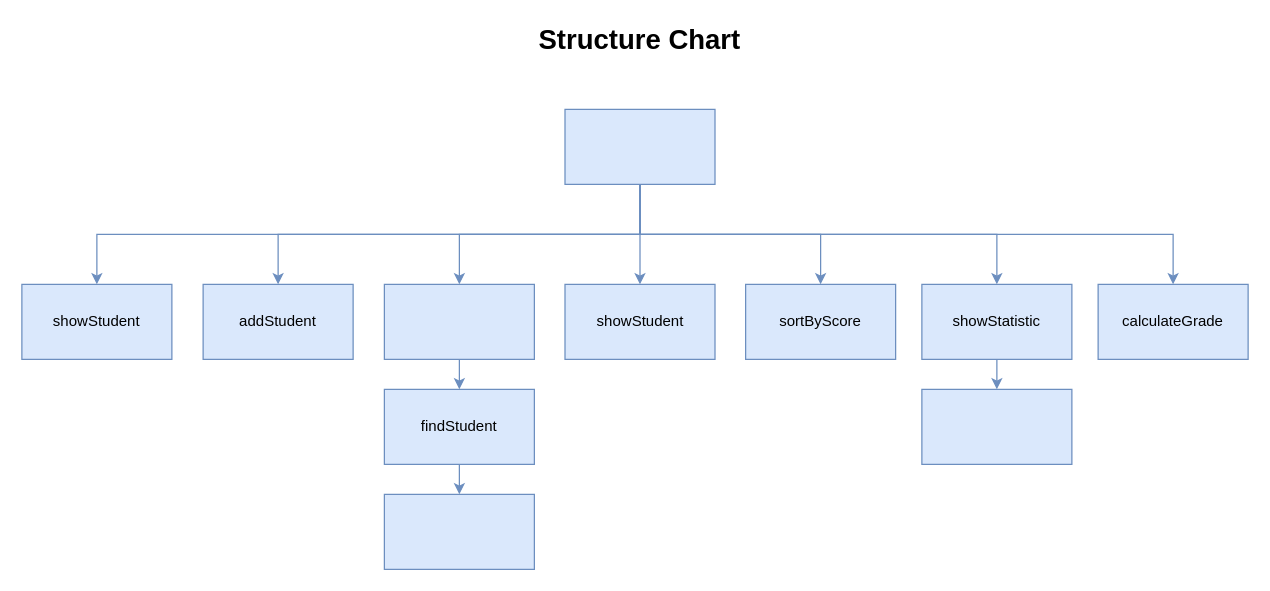
Some shapes in this 1270 by 591 pixel diagram are drawn without their labels. Here are the shapes that lost their labels. From the top down, the centre of each, then its label:
point (639, 146): main
point (458, 321): removeStudent
point (996, 426): calculateAverage
point (458, 531): sortStudent
